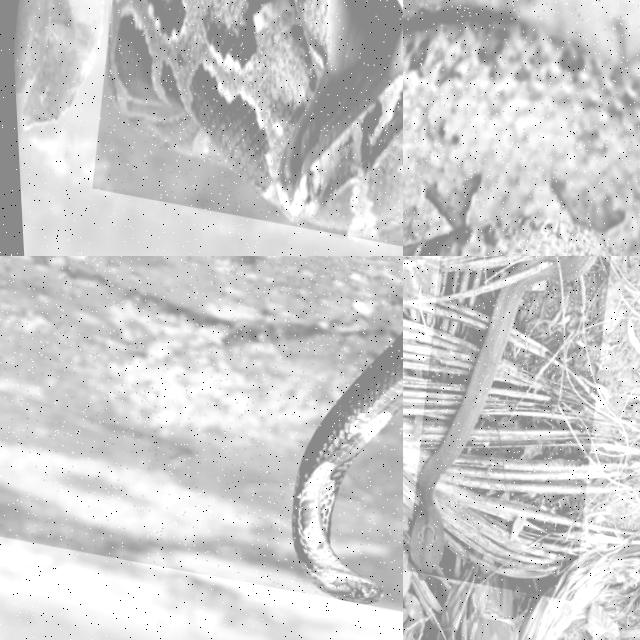Calloselasma rhodostoma: (403, 0, 639, 255)
Naja siamensis: (410, 256, 598, 574)
Ophiophagus hannah: (293, 333, 402, 602)
Python bivittatus: (111, 0, 402, 236)
